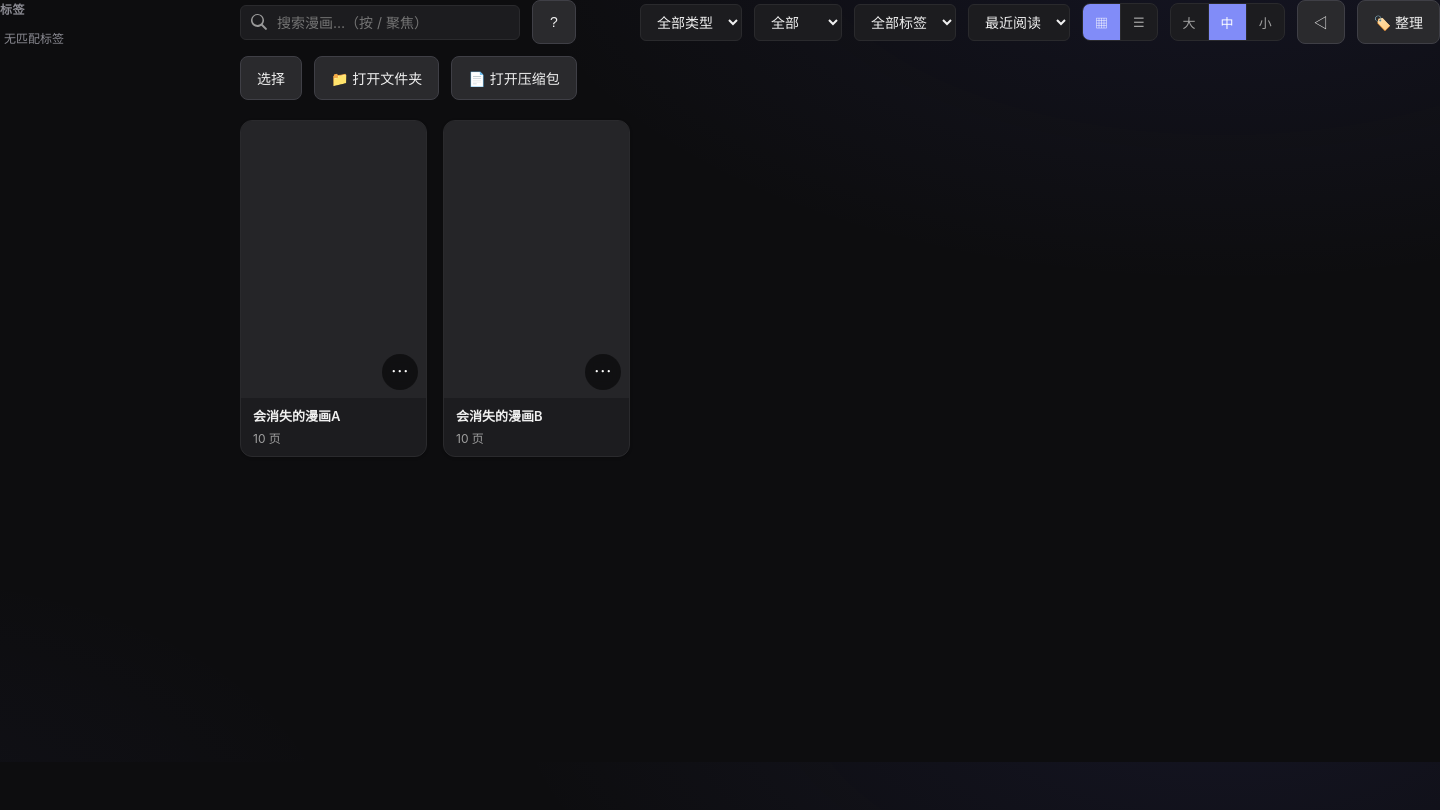
Test: Library 移除后可撤销 › 转换为 CBZ 的确认框列出将被删除的原文件（唯一会删磁盘文件的操作）
This screenshot has width=1440, height=810.
Expected: the text "会消失的漫画A" is shown, [253,408,340,424]
Click the button "选择" at (271, 78), box [240,56,302,100]
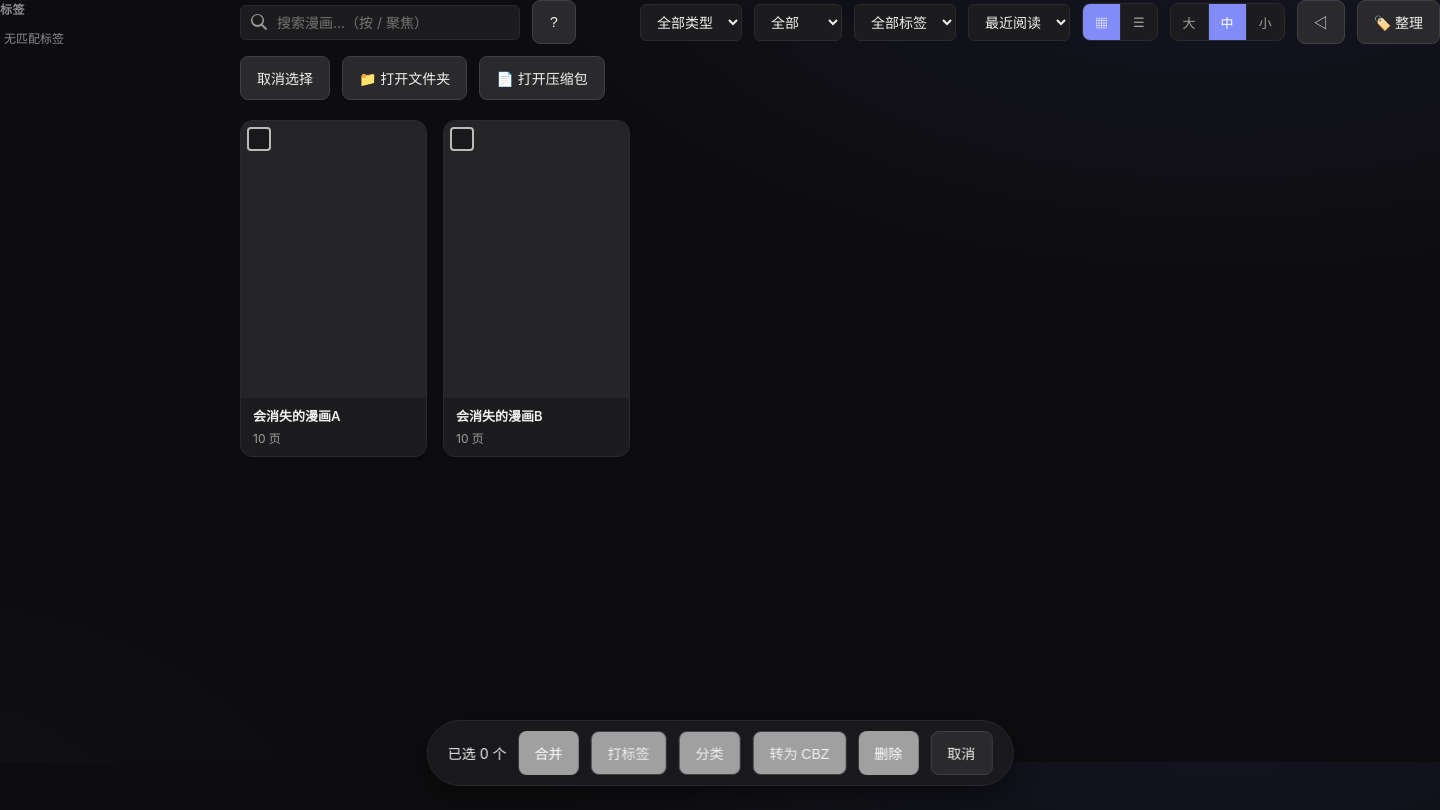
Click the text "会消失的漫画A" at (297, 416), box [253,408,340,424]
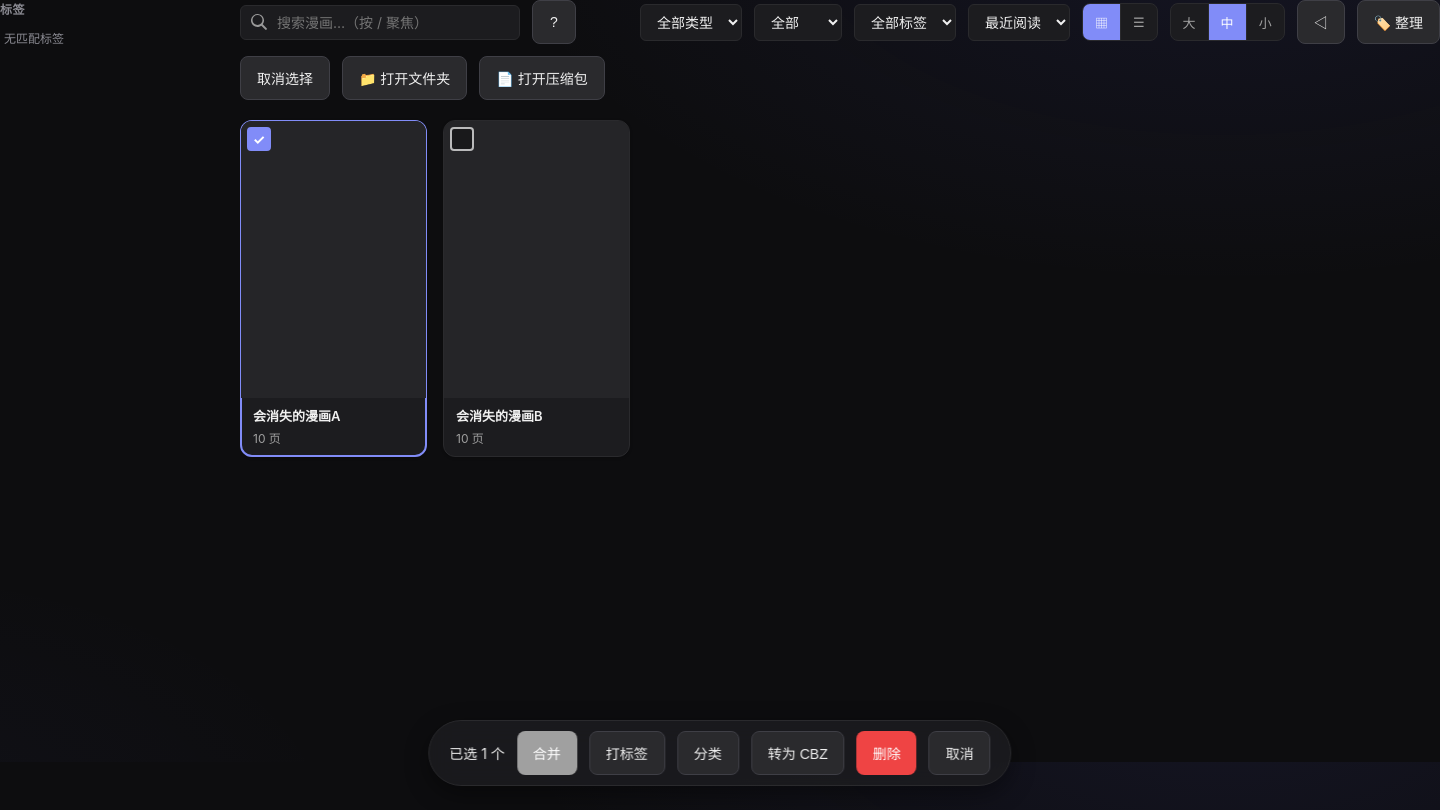
Click the text "会消失的漫画B" at (499, 416), box [456,408,542,424]
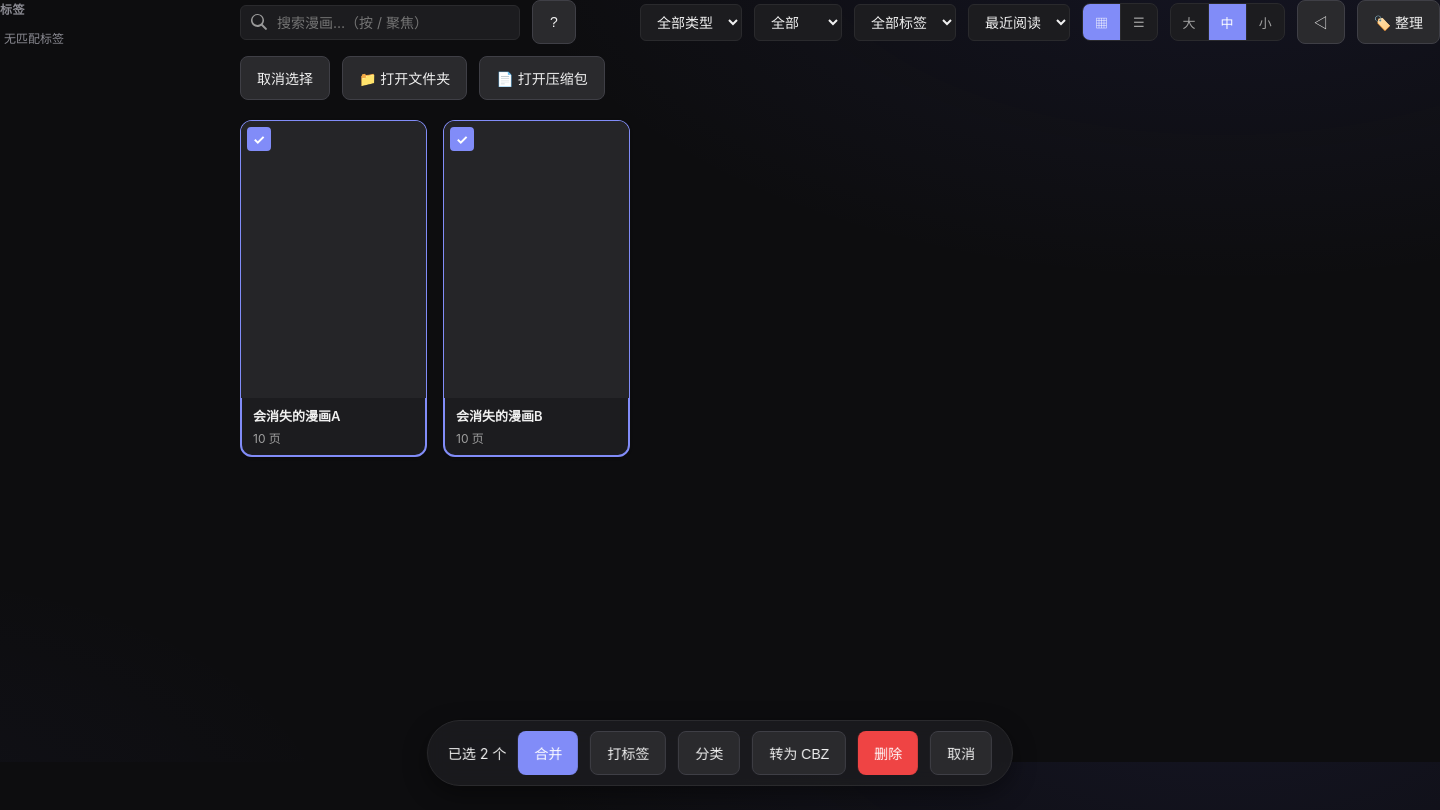
Click the button "转为 CBZ" at (799, 753), box [752,731,846,775]
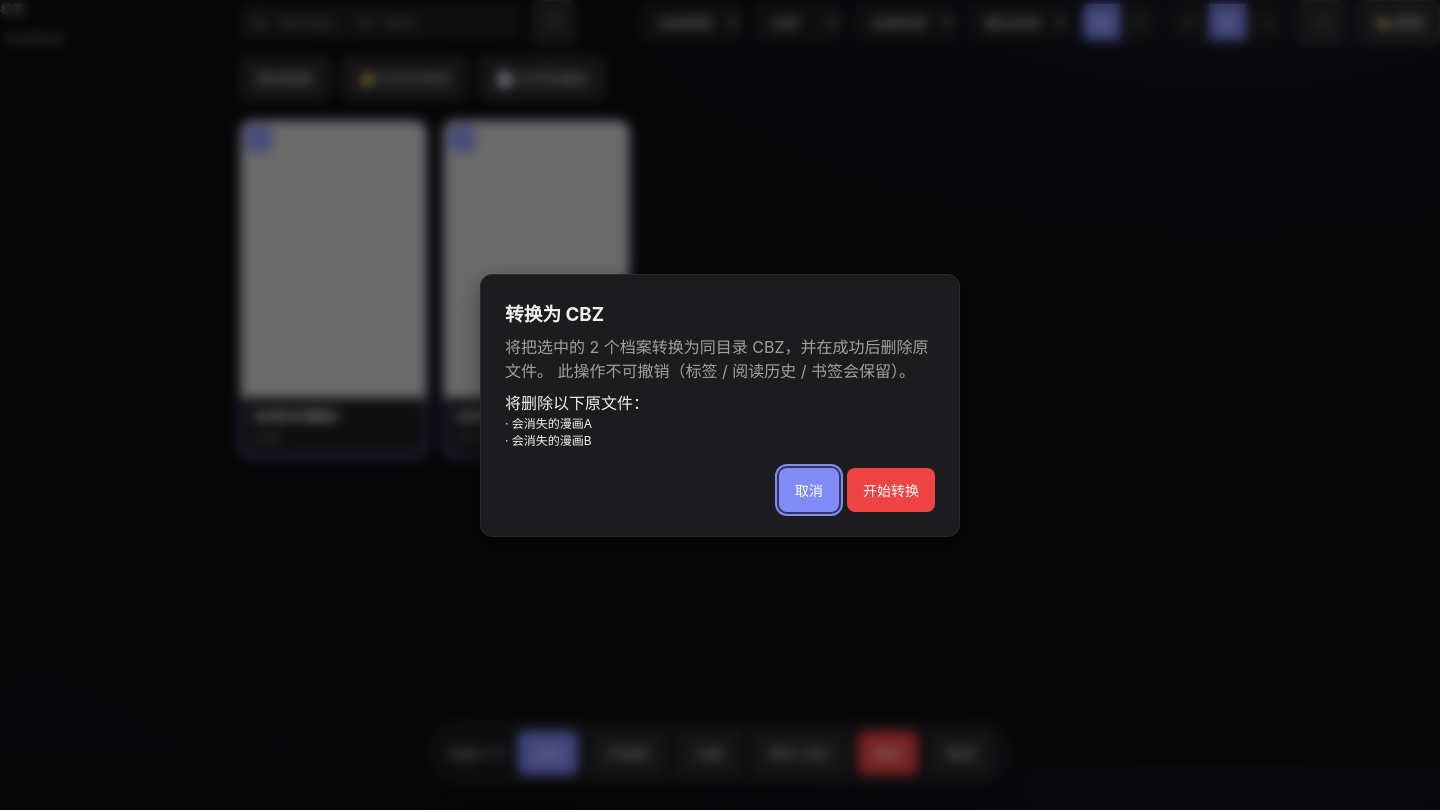
Expected: the text "将删除以下原文件： · 会消失的漫画A · 会消失的漫画B" is shown, [505,392,649,448]
Expected: the text "· 会消失的漫画A" is shown, [505,416,592,430]
Expected: the text "· 会消失的漫画B" is shown, [505,432,592,448]
